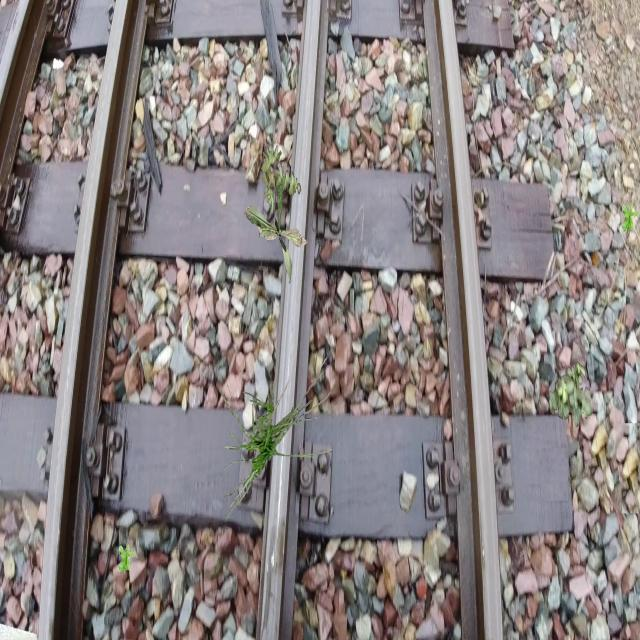Plant: (216, 356, 334, 520), (244, 173, 308, 285), (260, 144, 302, 216), (549, 361, 592, 428), (622, 202, 640, 234), (119, 543, 136, 575)
